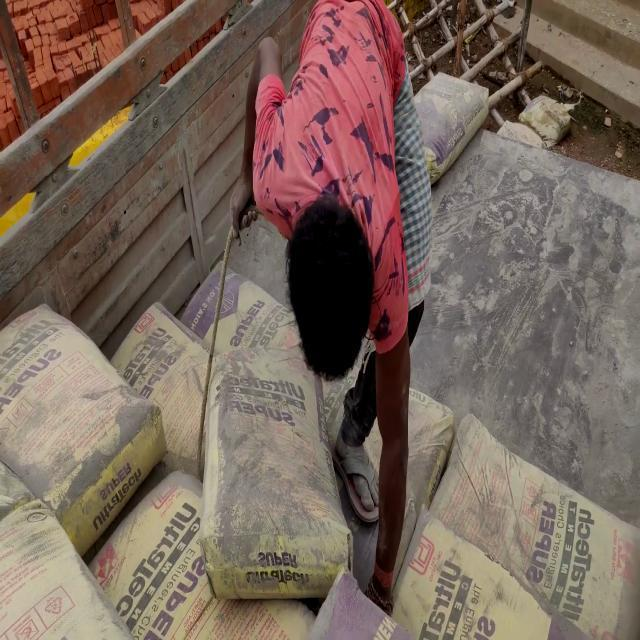gunny_bag: (430, 415, 640, 639), (0, 304, 164, 554), (199, 348, 352, 599), (88, 472, 314, 640), (393, 508, 552, 640), (0, 500, 131, 640), (112, 303, 208, 476), (415, 71, 489, 183)
